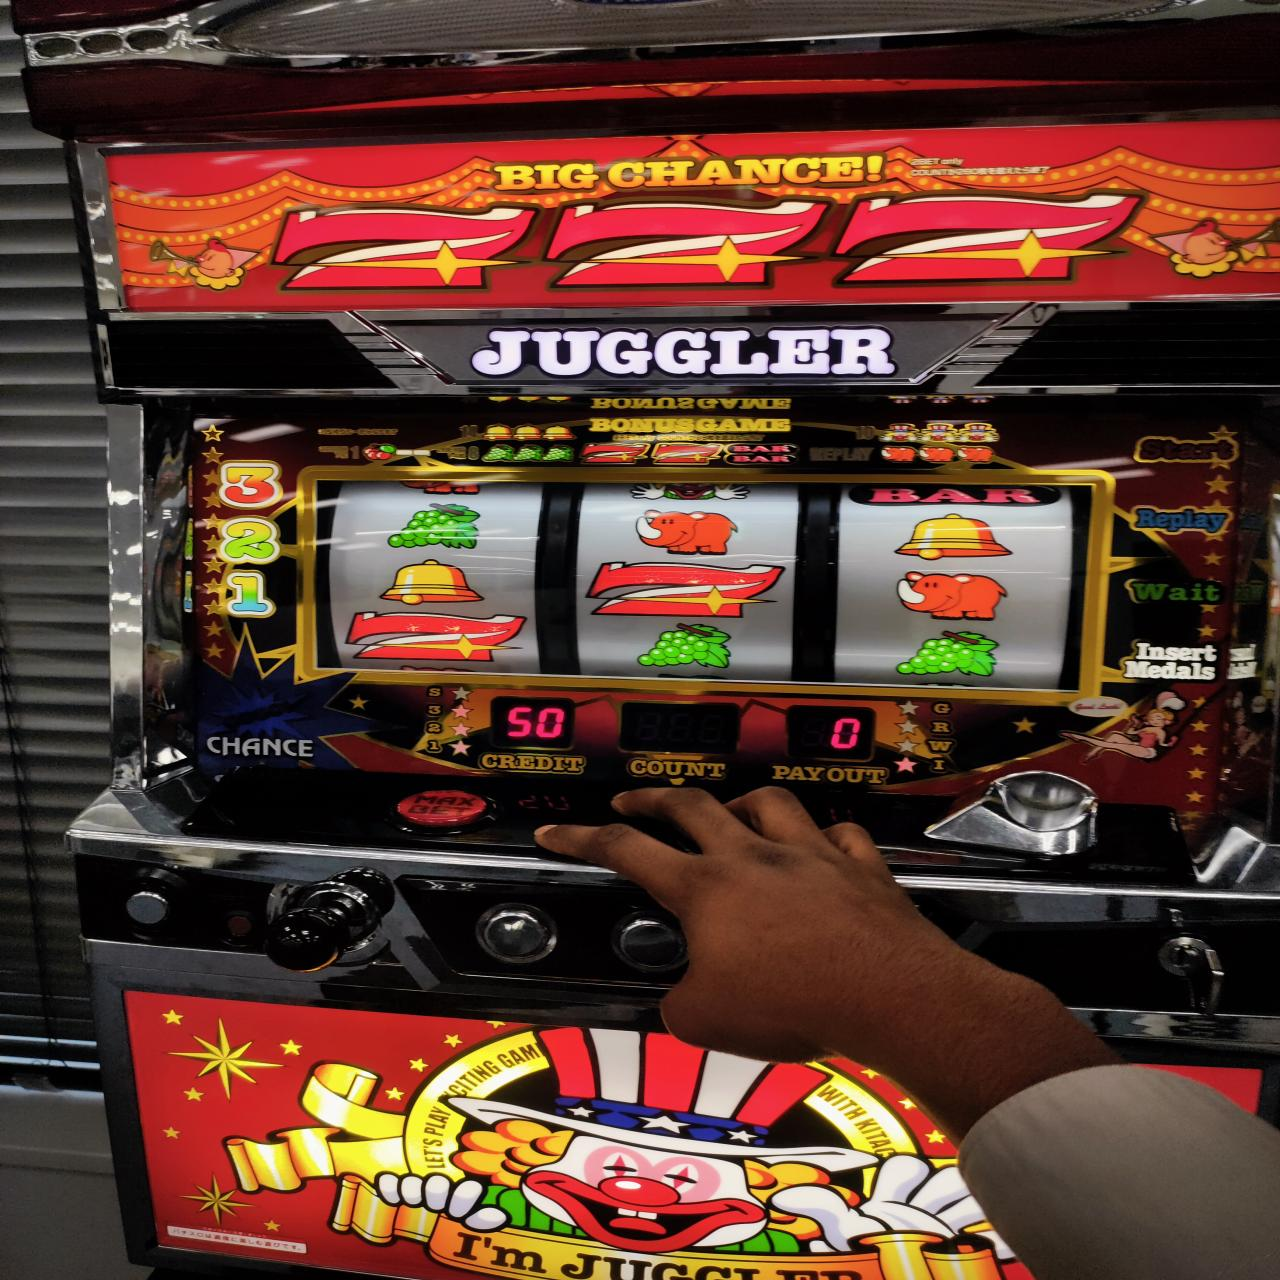7: (592, 560, 784, 617), (343, 610, 525, 660)
8: (897, 570, 1007, 619), (633, 509, 738, 556)
Display: (306, 471, 1091, 694)
bell: (896, 515, 1013, 561), (381, 560, 483, 605)
grape: (899, 627, 1000, 676), (634, 622, 736, 670), (388, 503, 478, 551)
